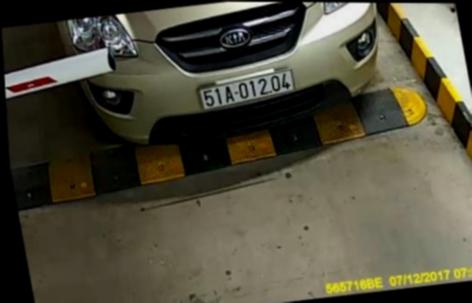License_Plate: (194, 59, 301, 116)
